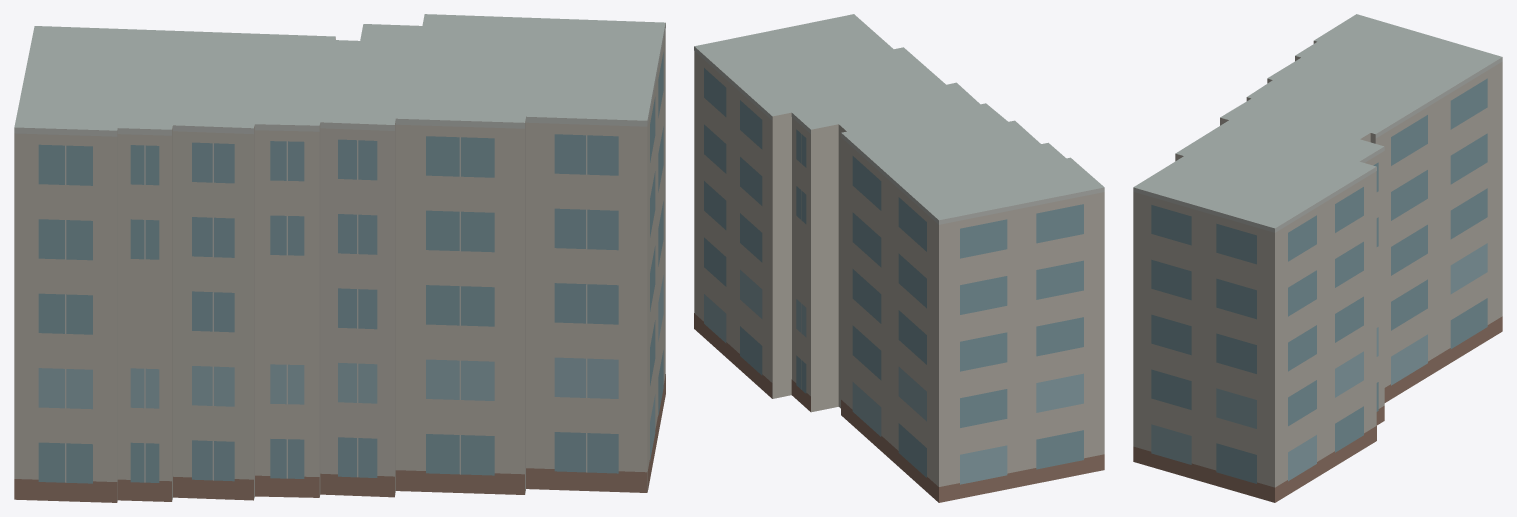
File: survey-upis-33046750.glb
The picture shows the model from 3 angles, left to right: view 1: azimuth 30°, elevation 25°; view 2: azimuth 150°, elevation 25°; view 3: azimuth 270°, elevation 25°; orthographic projection. The views are drawn at different scales.
Visible parts, largest first — view 1: survey-upis-33046750.tmp; view 2: survey-upis-33046750.tmp; view 3: survey-upis-33046750.tmp.
Part boxes in pixels (box(x1,y1,x2,y2)): survey-upis-33046750.tmp: box(14, 14, 665, 502); survey-upis-33046750.tmp: box(694, 14, 1104, 502); survey-upis-33046750.tmp: box(1133, 14, 1502, 502).
Bounding box in the file's own units: 25.57 × 15.25 × 18.61.
